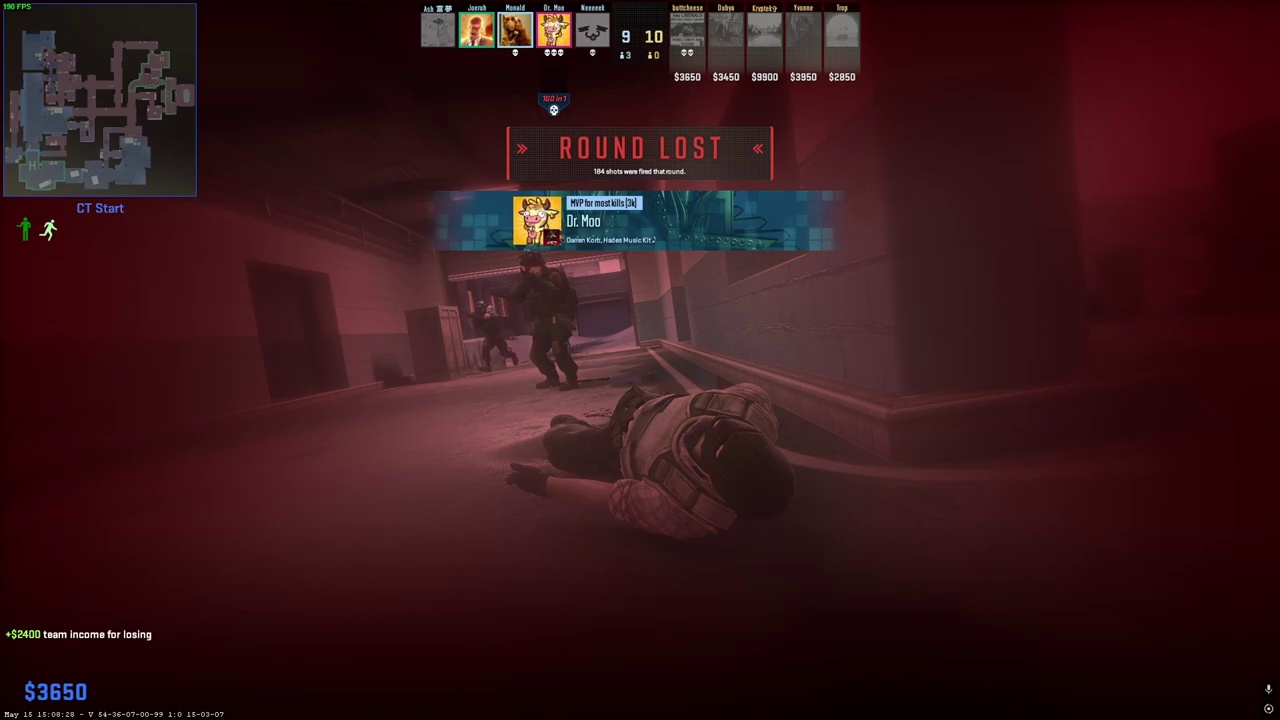CT: (519, 252, 578, 391), (473, 301, 517, 370)
